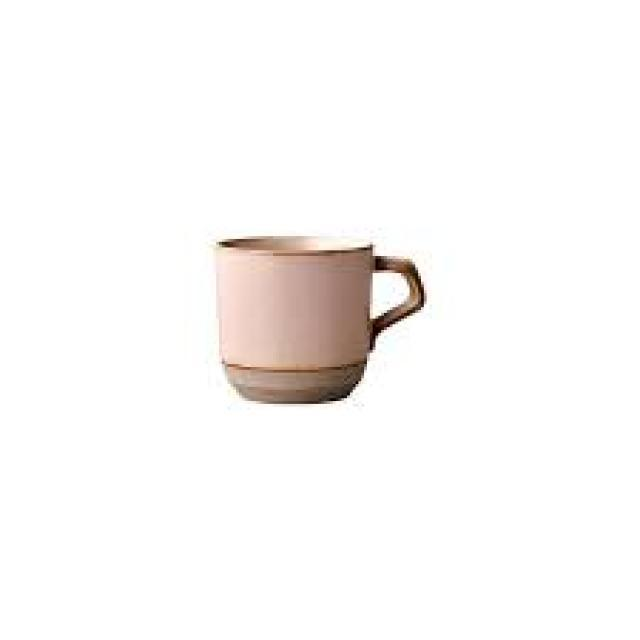taza: (212, 234, 428, 406)
